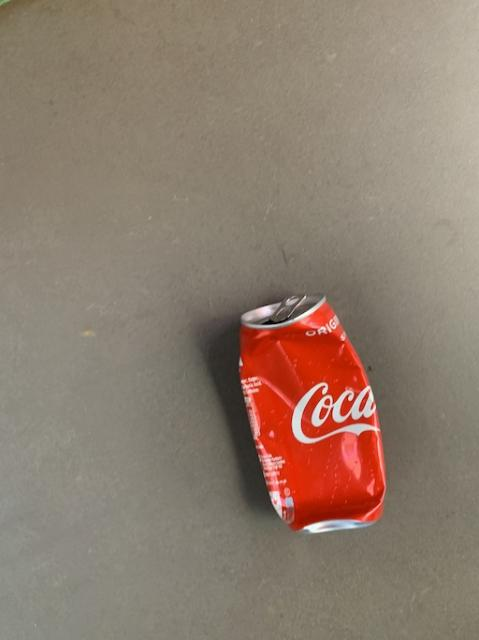metal: (239, 293, 384, 531)
